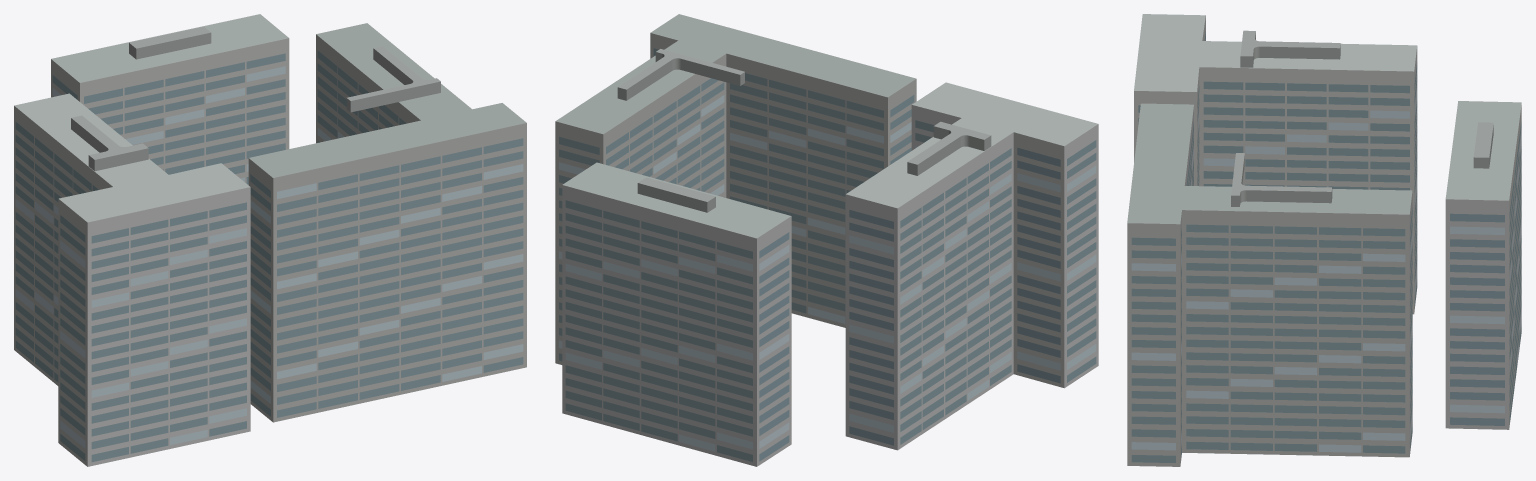
Rendered from apt-a12185605.glb.
3 renders of one model, left to right at view 1: azimuth 30°, elevation 25°; view 2: azimuth 150°, elevation 25°; view 3: azimuth 270°, elevation 25°, orthographic.
Visible parts, largest first — view 1: apt-a12185605; view 2: apt-a12185605; view 3: apt-a12185605.
Part boxes in pixels (x1,y1,x2,y2): apt-a12185605: [14, 14, 526, 466]; apt-a12185605: [555, 14, 1098, 466]; apt-a12185605: [1127, 14, 1521, 466].
Bounding box in the file's own units: 95.85 × 54 × 76.02.
